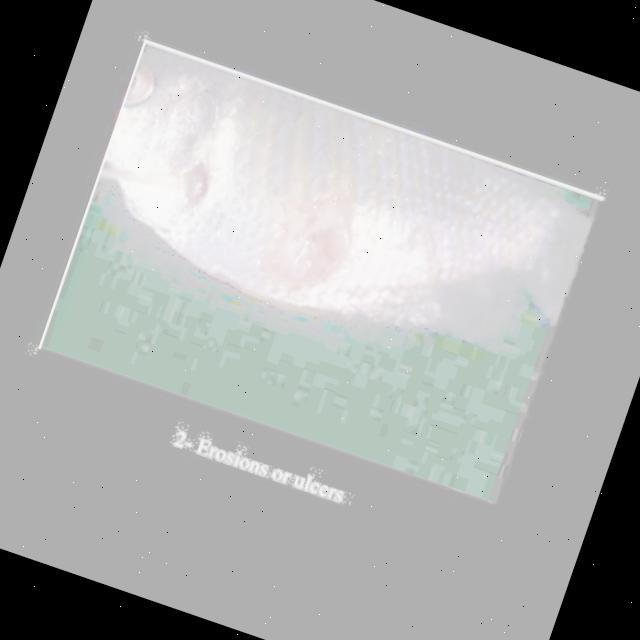Epizootic Ulcerative Syndrome -EUS-: (101, 42, 599, 322)
